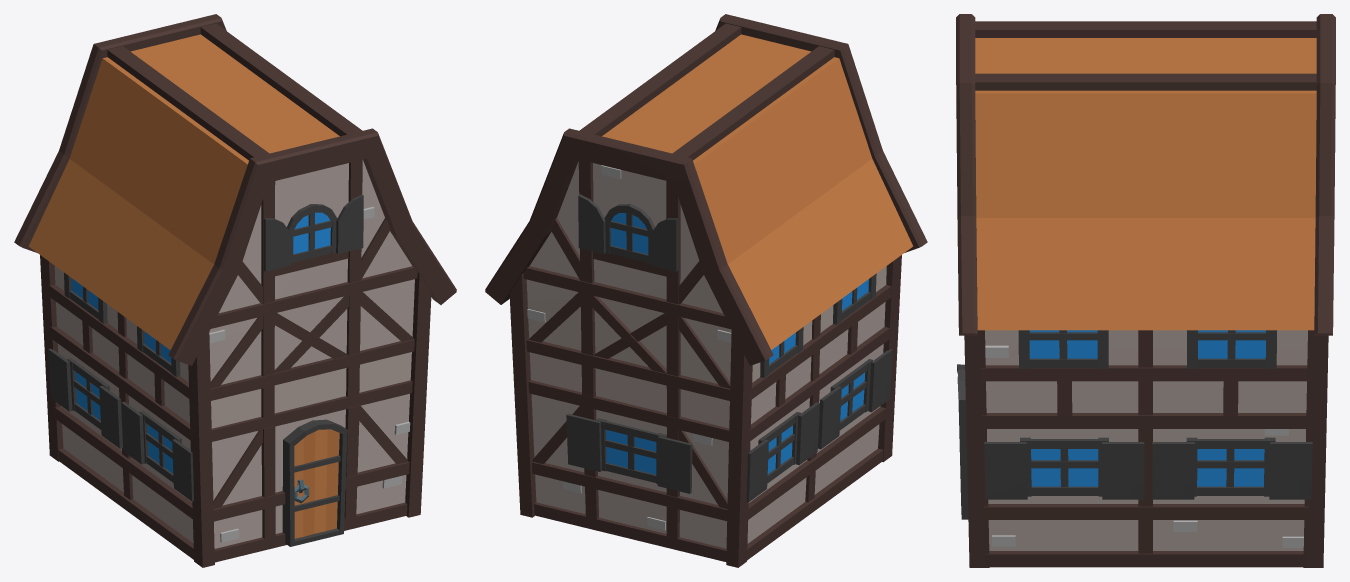
File: House_5-2.fbx
3 renders of one model, left to right at view 1: azimuth 30°, elevation 25°; view 2: azimuth 150°, elevation 25°; view 3: azimuth 270°, elevation 25°, orthographic. The views are drawn at different scales.
Visible parts, largest first — view 1: Town_BG_Bd_House06_A.012; view 2: Town_BG_Bd_House06_A.012; view 3: Town_BG_Bd_House06_A.012.
Boxes of the visible parts, bbox=[...] form: Town_BG_Bd_House06_A.012: bbox=[14, 14, 456, 567]; Town_BG_Bd_House06_A.012: bbox=[485, 14, 927, 567]; Town_BG_Bd_House06_A.012: bbox=[956, 14, 1335, 567].
Bounding box in the file's own units: 559 × 748 × 562.
